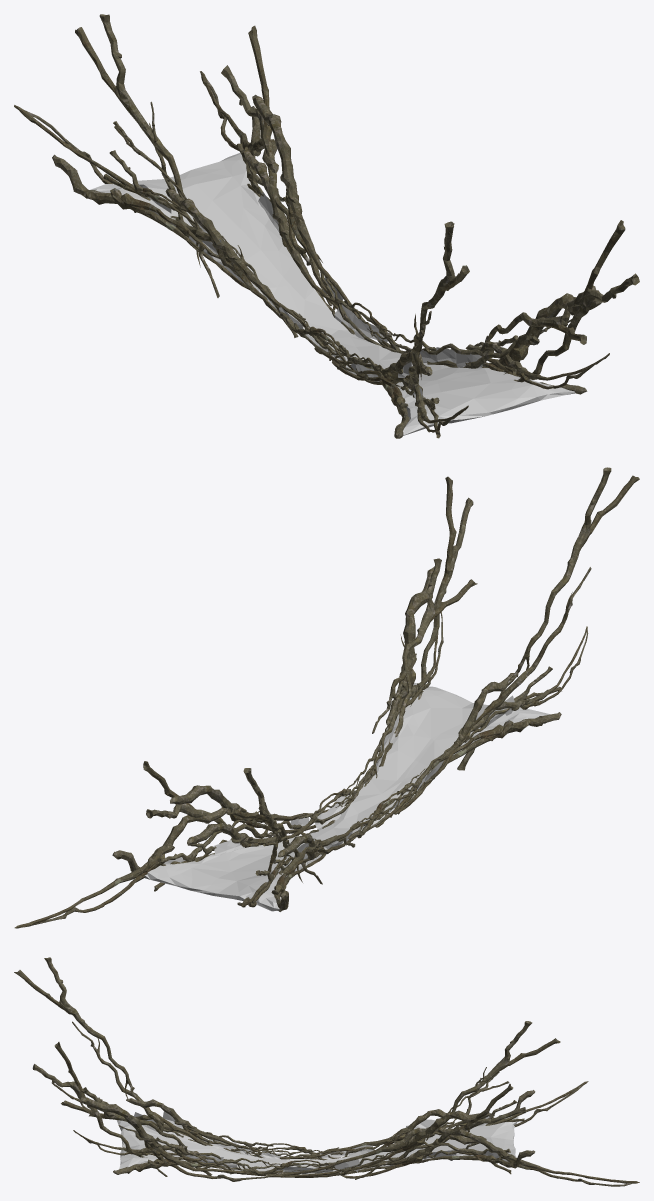
The picture shows the model from 3 angles, top to bottom: view 1: azimuth 30°, elevation 25°; view 2: azimuth 150°, elevation 25°; view 3: azimuth 270°, elevation 25°; orthographic projection. The views are drawn at different scales.
Parts seen in each view (by area): view 1: AT_BGAgo_Bridge_W_B01_02B.mo; view 2: AT_BGAgo_Bridge_W_B01_02B.mo; view 3: AT_BGAgo_Bridge_W_B01_02B.mo.
Part boxes in pixels (box(x1,y1,x2,y2)): AT_BGAgo_Bridge_W_B01_02B.mo: box(14, 14, 639, 438); AT_BGAgo_Bridge_W_B01_02B.mo: box(14, 467, 639, 928); AT_BGAgo_Bridge_W_B01_02B.mo: box(14, 957, 639, 1186).
Bounding box in the file's own units: 3953 × 4727 × 14405.
